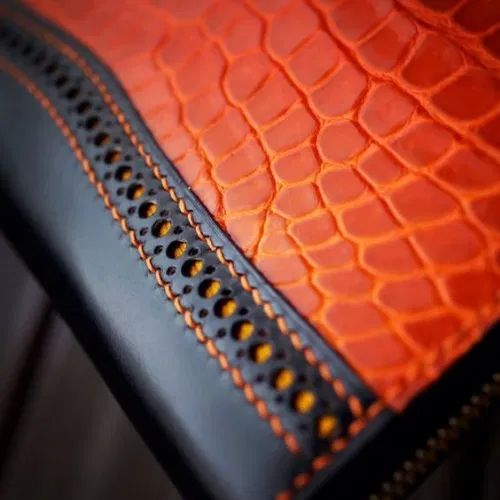cuero: (1, 1, 500, 500)
